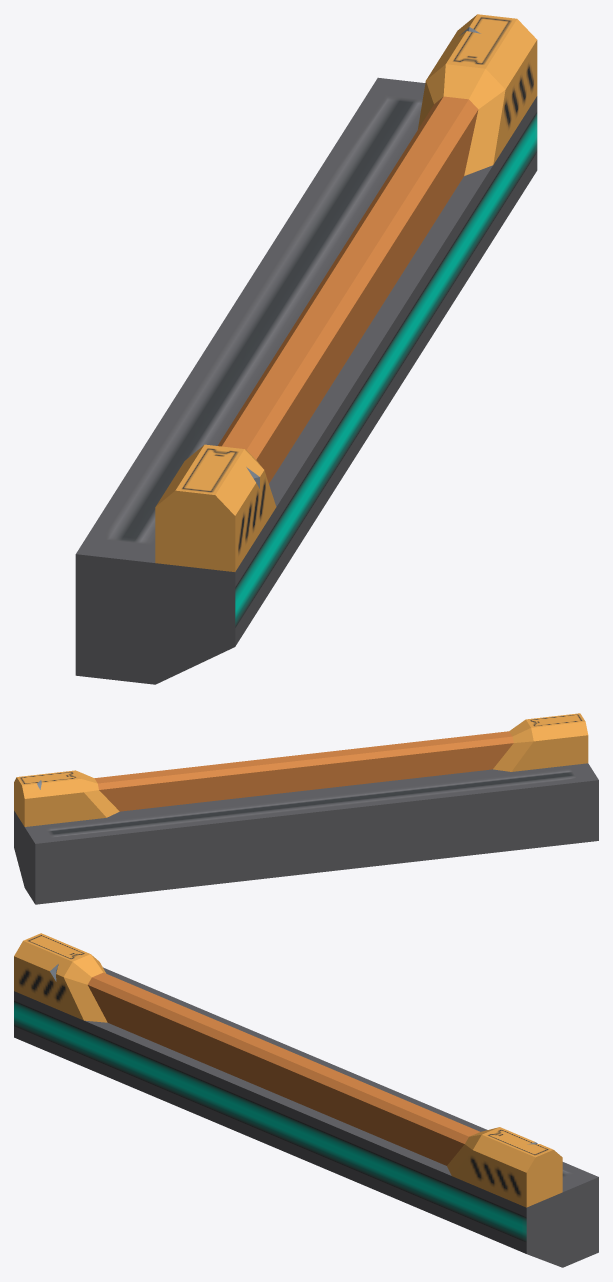
Rendered from SM_Bld_Railing_45_01.fbx.
3 views of the same model, one above another, from view 1: azimuth 30°, elevation 25°; view 2: azimuth 150°, elevation 25°; view 3: azimuth 270°, elevation 25° (orthographic). The views are drawn at different scales.
Parts seen in each view (by area): view 1: SM_Bld_Railing_45_01; view 2: SM_Bld_Railing_45_01; view 3: SM_Bld_Railing_45_01.
Part boxes in pixels (bbox=[...]): SM_Bld_Railing_45_01: bbox=[75, 14, 537, 684]; SM_Bld_Railing_45_01: bbox=[14, 713, 598, 904]; SM_Bld_Railing_45_01: bbox=[14, 933, 598, 1267].
Bounding box in the file's own units: 285 × 65.64 × 285.
